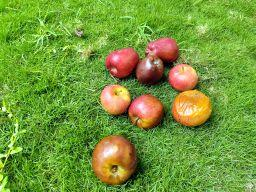apple: (88, 132, 142, 188), (167, 84, 217, 131), (125, 92, 166, 133), (98, 79, 134, 125), (102, 44, 142, 79), (163, 61, 206, 92), (140, 34, 182, 64), (133, 53, 168, 84)
